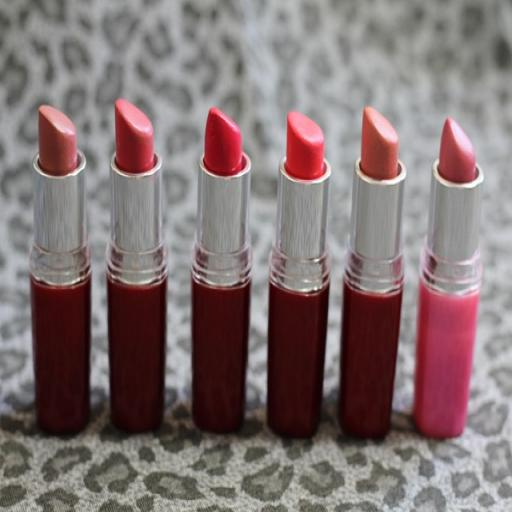lipstick: (339, 107, 406, 437), (414, 119, 483, 437), (268, 112, 331, 437), (30, 106, 91, 434), (107, 100, 167, 431), (192, 108, 251, 432)
